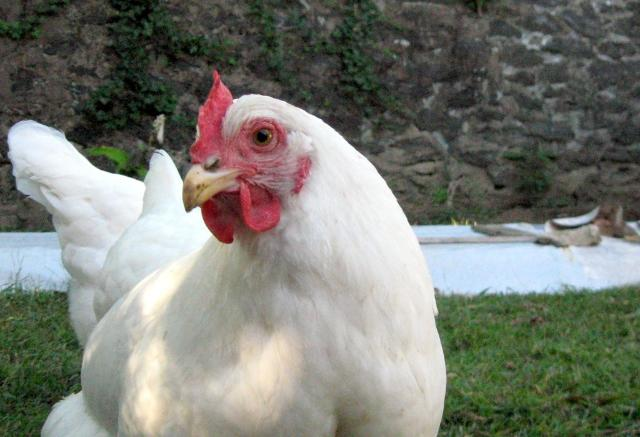Chicken: (7, 70, 447, 437)
